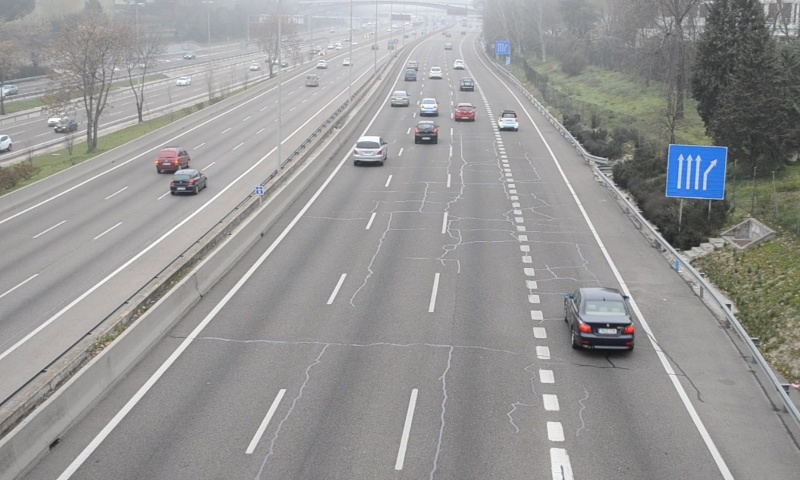car: (567, 288, 636, 353), (352, 135, 388, 162), (413, 120, 438, 143), (453, 102, 476, 124), (497, 110, 519, 130), (418, 97, 439, 117), (388, 89, 409, 107), (459, 76, 474, 92)
